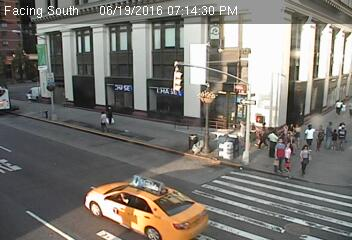neg: (176, 159, 201, 192), (331, 166, 351, 195), (116, 203, 137, 230), (283, 210, 304, 237), (201, 86, 215, 104), (122, 190, 133, 205)
pos: (293, 143, 319, 177), (333, 122, 351, 152), (94, 110, 111, 133), (333, 96, 347, 114)
